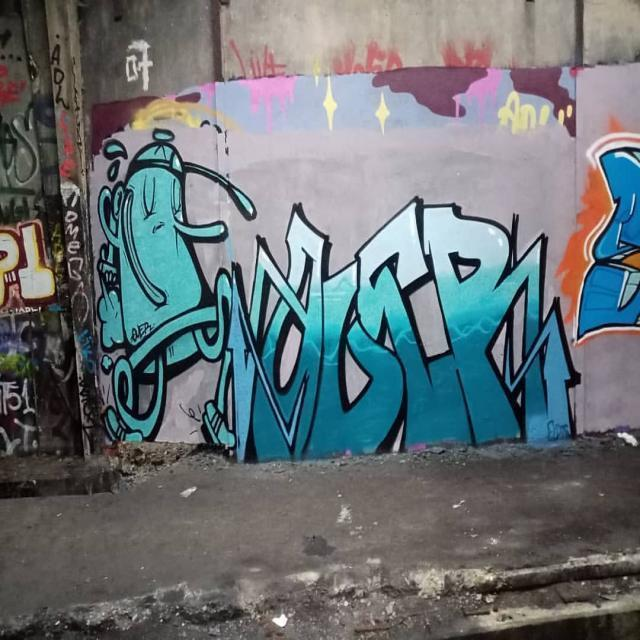nonspitting: (209, 196, 585, 457), (580, 136, 640, 343), (0, 219, 55, 311), (62, 180, 92, 326), (501, 88, 576, 134), (0, 101, 38, 185), (226, 36, 292, 77), (332, 41, 402, 73), (49, 32, 72, 110), (125, 39, 153, 91), (0, 381, 34, 418)
spitting: (89, 129, 258, 442)
